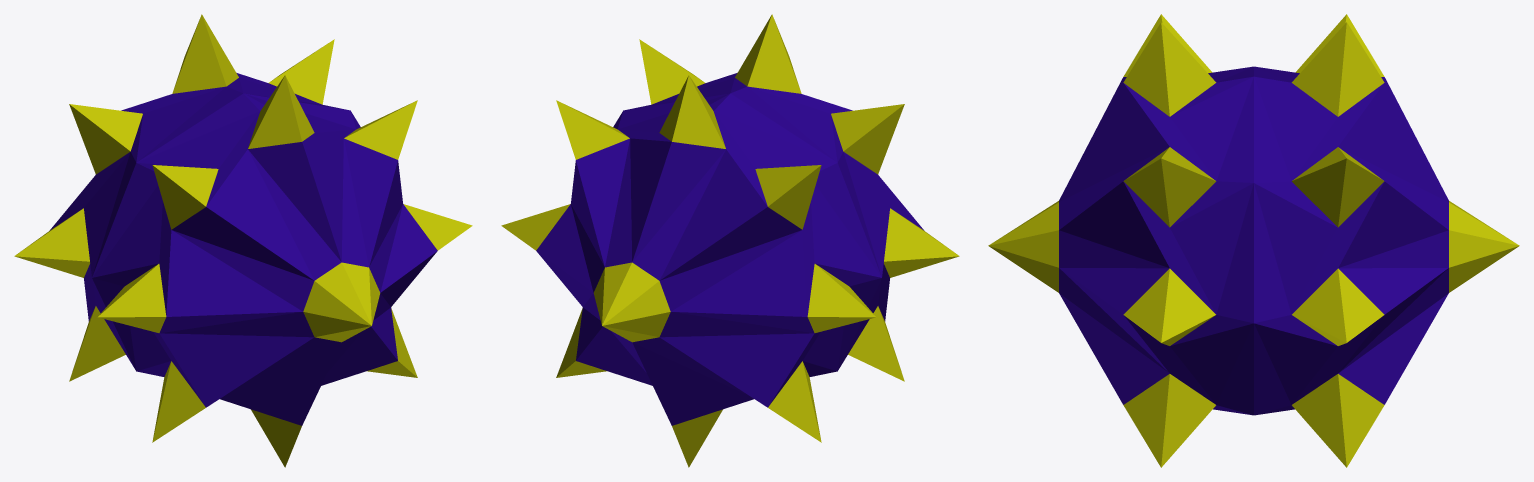
The model's file is hazard.FBX.
3 views of the same model, side by side, from view 1: azimuth 30°, elevation 25°; view 2: azimuth 150°, elevation 25°; view 3: azimuth 270°, elevation 25° (orthographic). The views are drawn at different scales.
Parts seen in each view (by area): view 1: Cylinder001; view 2: Cylinder001; view 3: Cylinder001.
Part boxes in pixels (box(x1,y1,x2,y2)): Cylinder001: box(14, 14, 472, 467); Cylinder001: box(501, 14, 959, 467); Cylinder001: box(988, 14, 1519, 467).
Bounding box in the file's own units: 10.89 × 10.89 × 11.99.
